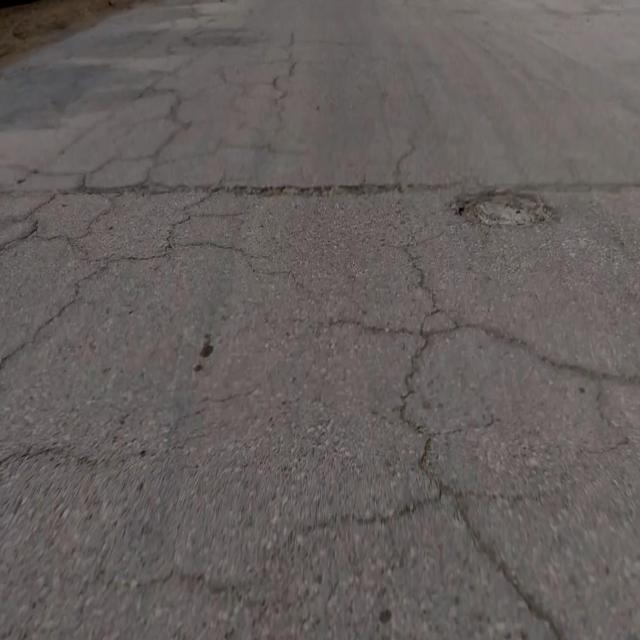Potholes: (453, 186, 561, 233)
